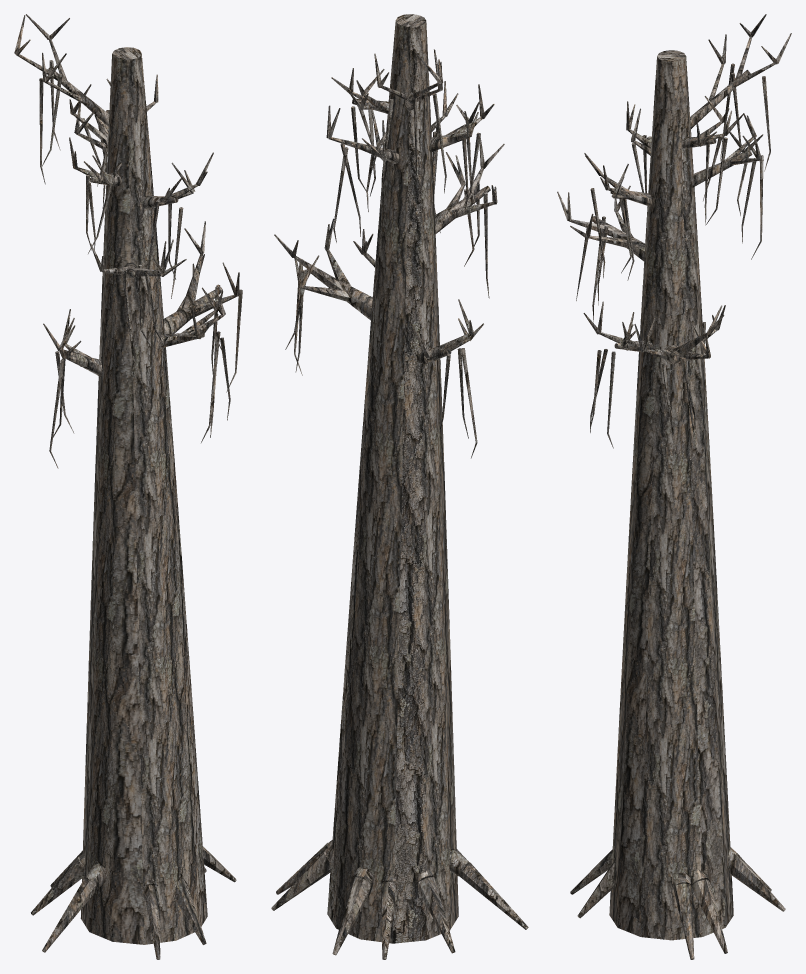
File: weeping-willow-v01.glb
3 views of the same model, side by side, from view 1: azimuth 30°, elevation 25°; view 2: azimuth 150°, elevation 25°; view 3: azimuth 270°, elevation 25° (orthographic). The views are drawn at different scales.
Visible parts, largest first — view 1: dead-tree-willow; view 2: dead-tree-willow; view 3: dead-tree-willow.
Part boxes in pixels (<box>): dead-tree-willow: <box>14,14,242,959</box>; dead-tree-willow: <box>271,14,528,959</box>; dead-tree-willow: <box>557,14,791,959</box>.
Bounding box in the file's own units: 2.27 × 8.78 × 2.15.
Materials: 1 (1 with a texture image).
